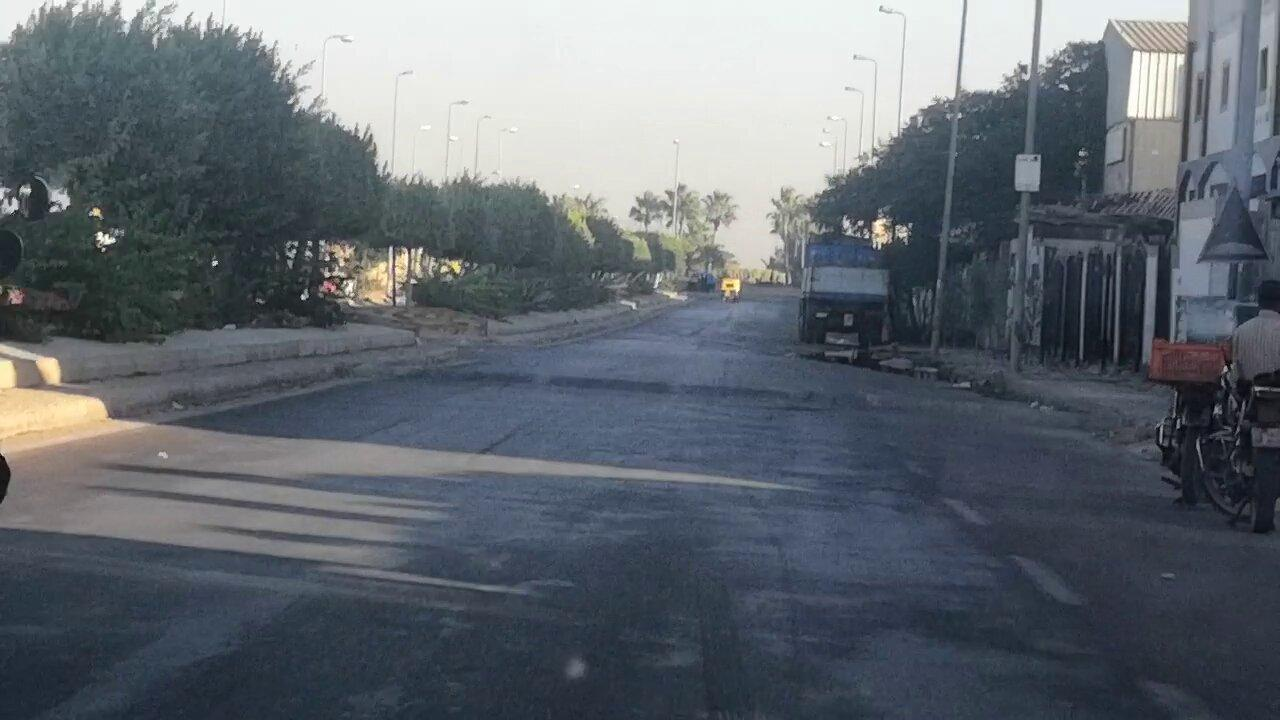Bump: (405, 357, 1053, 417)
